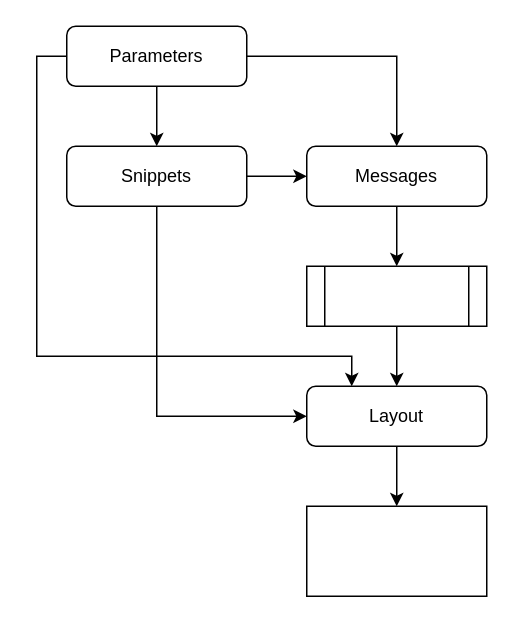
Image size: 513x623. Some labels were removed from this diagram. The box of each missing label's shape, as (x1, y1, x2, y2) in pixels:
Markdown: (305, 265, 487, 326)
OUTPUT: (305, 505, 487, 596)
